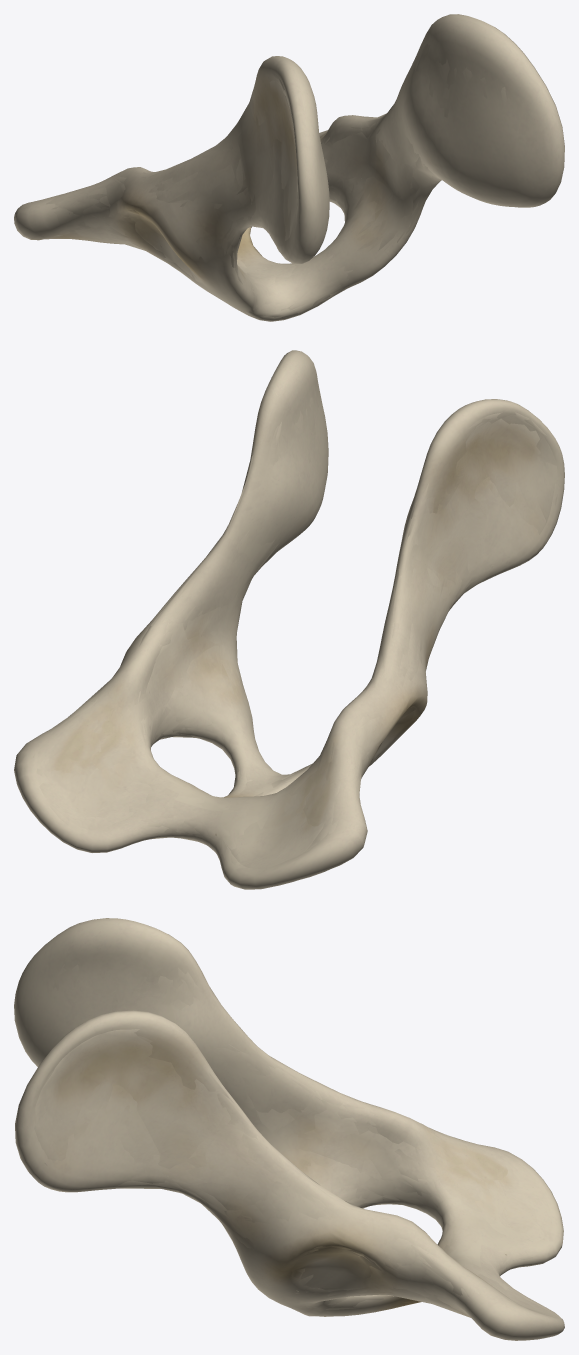
Rendered from Pelvis Ischium Ilium.fbx.
3 renders of one model, top to bottom at view 1: azimuth 30°, elevation 25°; view 2: azimuth 150°, elevation 25°; view 3: azimuth 270°, elevation 25°, orthographic.
Parts seen in each view (by area): view 1: Pelvis Ischium Ilium high, Pelvis Ischium Ilium low, Pelvis Ischium Ilium; view 2: Pelvis Ischium Ilium high, Pelvis Ischium Ilium low, Pelvis Ischium Ilium; view 3: Pelvis Ischium Ilium high, Pelvis Ischium Ilium low, Pelvis Ischium Ilium.
Part boxes in pixels (x1,y1,x2,y2): Pelvis Ischium Ilium high: [14, 14, 564, 321]; Pelvis Ischium Ilium low: [46, 44, 506, 312]; Pelvis Ischium Ilium: [44, 43, 510, 318]; Pelvis Ischium Ilium high: [14, 350, 564, 889]; Pelvis Ischium Ilium low: [36, 384, 557, 868]; Pelvis Ischium Ilium: [32, 390, 557, 865]; Pelvis Ischium Ilium high: [14, 918, 564, 1340]; Pelvis Ischium Ilium low: [34, 976, 551, 1317]; Pelvis Ischium Ilium: [34, 964, 555, 1316].
Bounding box in the file's own units: 24.14 × 23.44 × 33.6.
Materials: 1 (1 with a texture image).
